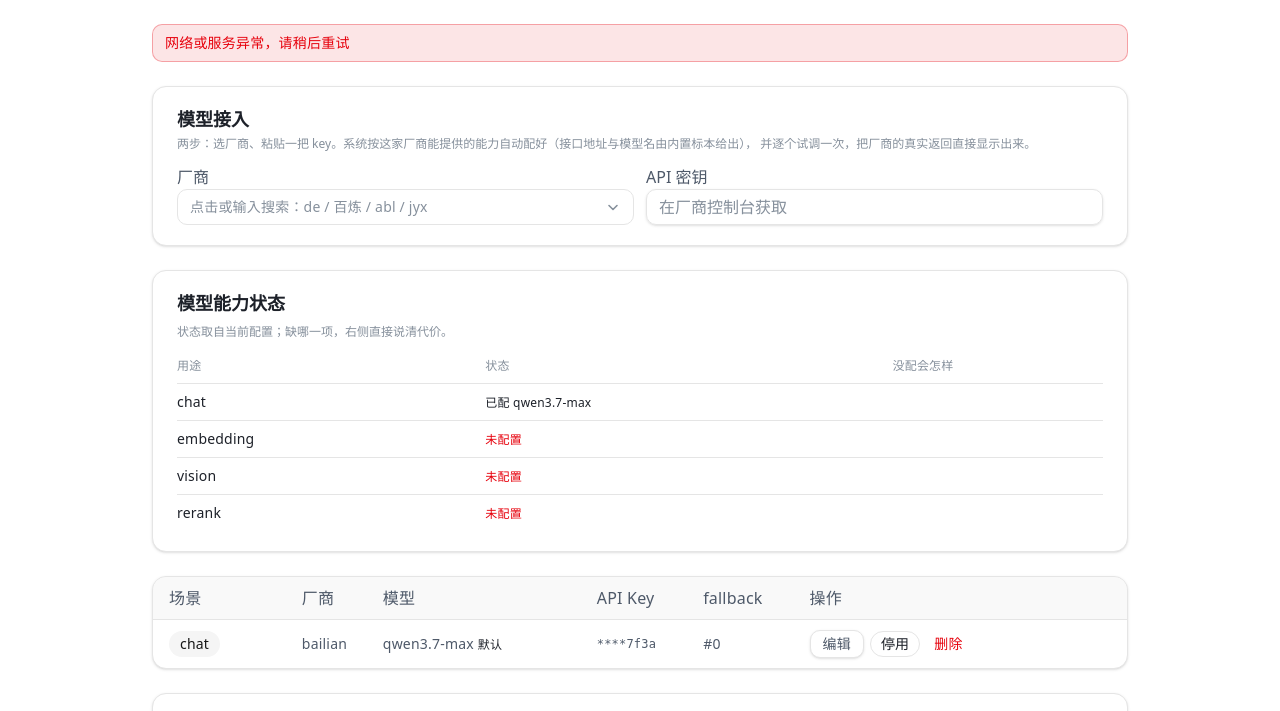
Test: surfaces toggle failure in banner instead of failing silently
The width and height of the screenshot is (1280, 711).
Step 1. Click the switch named "启用 qwen3.7-max" → coordinates (895, 644), box [870,631,920,657]
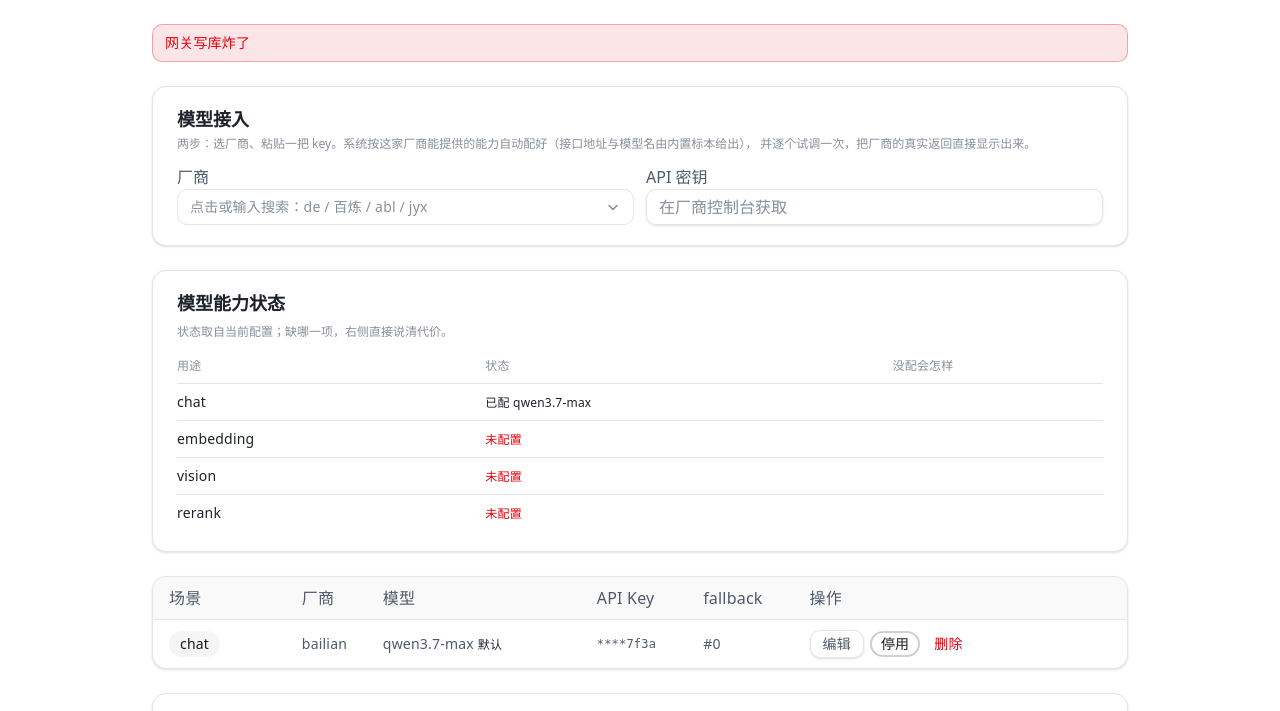
Expected: the message reads "网关写库炸了", [165,33,250,52]
